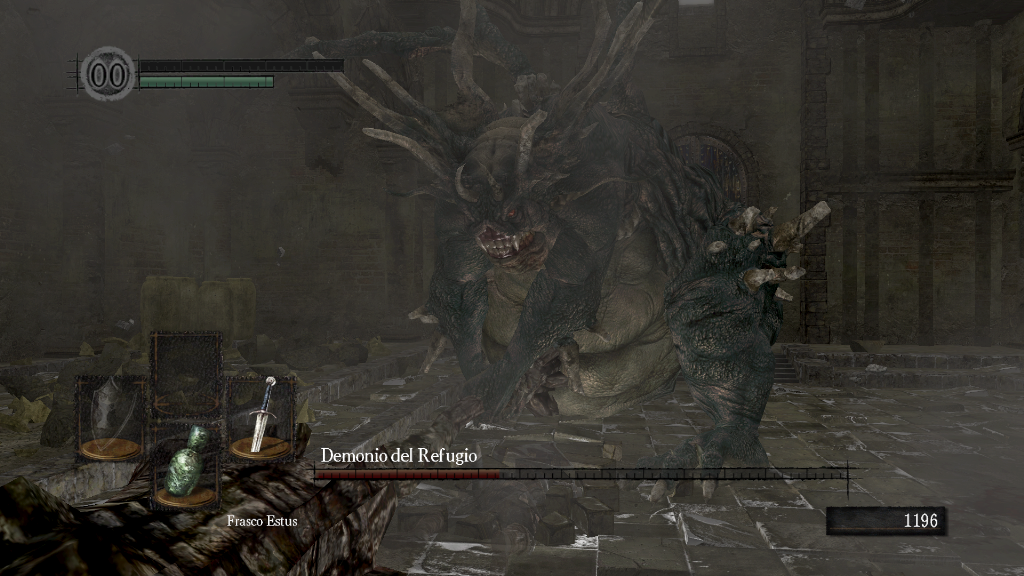asylumDemon: (302, 1, 832, 502)
bossHP: (314, 469, 847, 479)
health: (138, 58, 343, 71)
humanity: (80, 45, 136, 102)
souls: (825, 506, 945, 536)
stamina: (138, 74, 274, 88)
